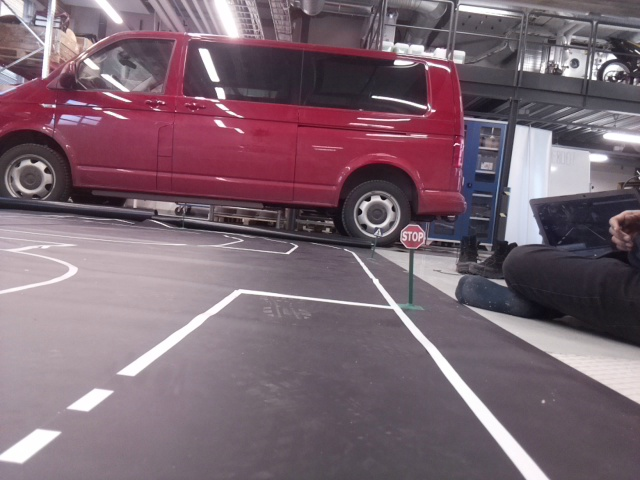Stop: (401, 222, 424, 247)
